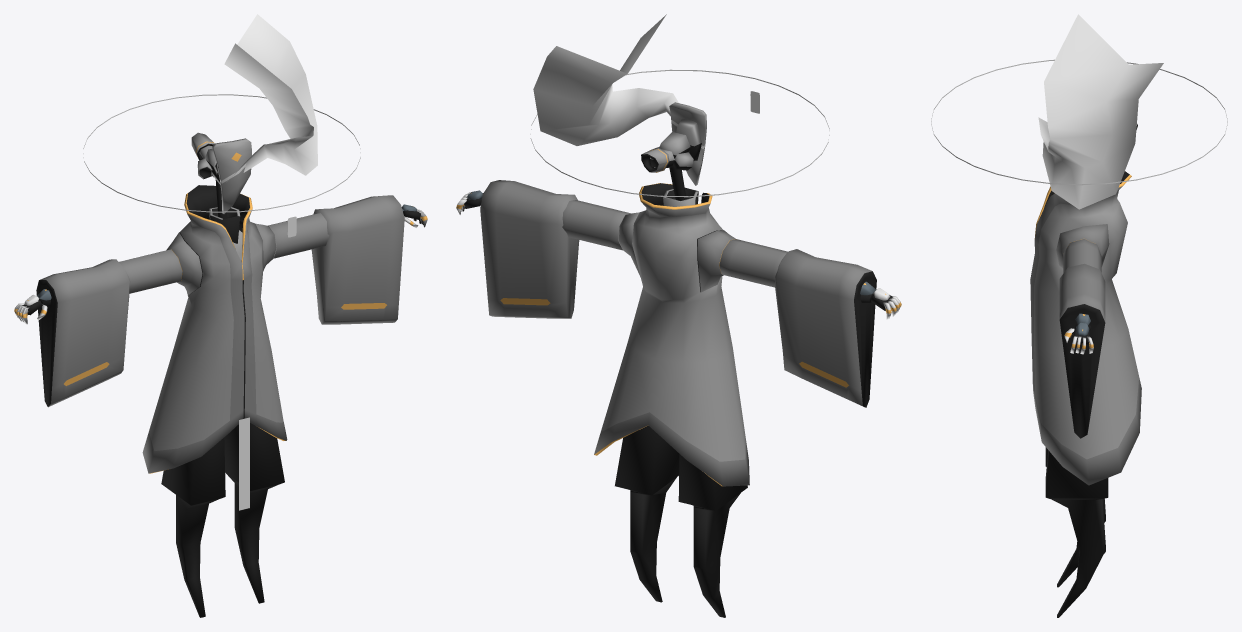
File: GEKKOU_Body.fbx
3 views of the same model, side by side, from view 1: azimuth 30°, elevation 25°; view 2: azimuth 150°, elevation 25°; view 3: azimuth 270°, elevation 25° (orthographic). The views are drawn at different scales.
Parts seen in each view (by area): view 1: Circle, Circle.007, Circle.004, legs, BezierCurve.001, Cube.002, Circle.006, Circle.002, Circle.005, Info_circle, Plane, Cube.011; view 2: Circle, Circle.007, Circle.004, legs, BezierCurve.001, Circle.002, Circle.006, Circle.005, Cube.002, Info_circle, Circle.003; view 3: Circle, BezierCurve.001, Circle.004, legs, Circle.003, Circle.002, Info_circle.
Boxes of the visible parts, bbox=[...] form: Circle: bbox=[142, 185, 287, 473]; Circle.007: bbox=[36, 259, 130, 407]; Circle.004: bbox=[311, 195, 404, 324]; legs: bbox=[161, 423, 284, 617]; BezierCurve.001: bbox=[224, 14, 317, 181]; Cube.002: bbox=[212, 138, 251, 213]; Circle.006: bbox=[119, 249, 182, 293]; Circle.002: bbox=[268, 213, 329, 258]; Circle.005: bbox=[166, 232, 202, 294]; Info_circle: bbox=[83, 94, 360, 237]; Plane: bbox=[239, 417, 249, 510]; Cube.011: bbox=[209, 207, 240, 243]; Circle: bbox=[594, 183, 749, 486]; Circle.007: bbox=[774, 249, 876, 407]; Circle.004: bbox=[480, 180, 579, 318]; legs: bbox=[615, 425, 747, 617]; BezierCurve.001: bbox=[533, 14, 678, 145]; Circle.002: bbox=[562, 200, 631, 250]; Circle.006: bbox=[719, 239, 787, 287]; Circle.005: bbox=[697, 230, 736, 292]; Cube.002: bbox=[669, 102, 706, 185]; Info_circle: bbox=[530, 69, 829, 197]; Circle.003: bbox=[618, 212, 640, 276]; Circle: bbox=[1030, 171, 1141, 485]; BezierCurve.001: bbox=[1038, 14, 1163, 209]; Circle.004: bbox=[1059, 263, 1105, 438]; legs: bbox=[1045, 447, 1108, 617]; Circle.003: bbox=[1056, 224, 1109, 268]; Circle.002: bbox=[1063, 239, 1101, 272]; Info_circle: bbox=[931, 59, 1227, 185].
Size of the model in its own units: 164 by 215 by 97.82.
